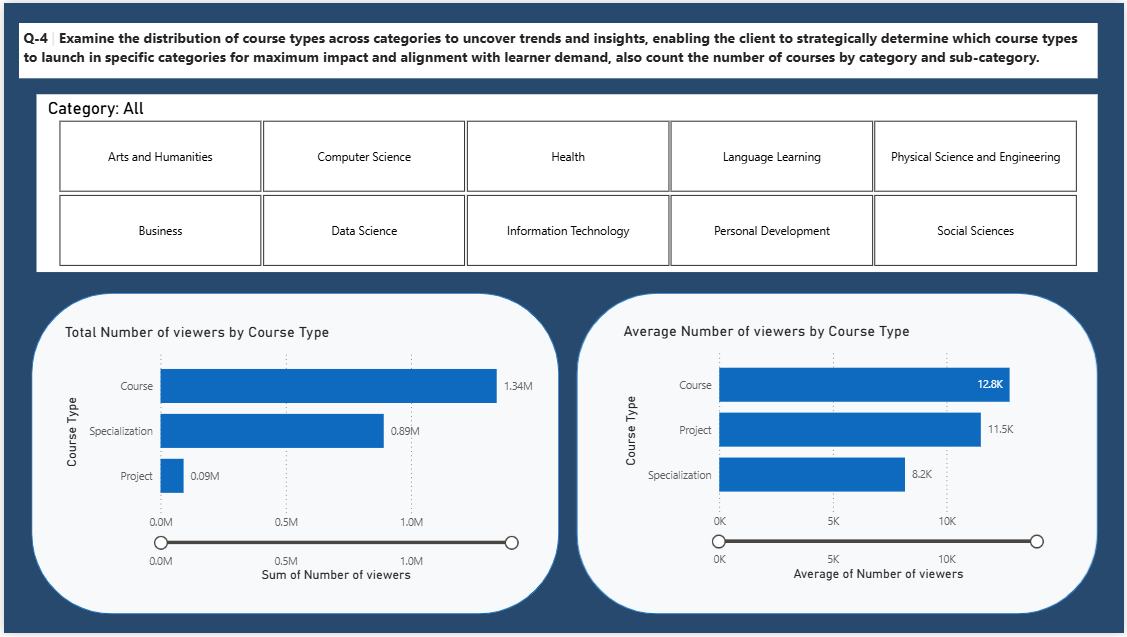

Layout of this report page (visuals, bound fields, positions):
{"tool":"powerbi","page":{"name":"Q-4","canvas":[1280,720],"ordinal":4},"visuals":[{"type":"slicer","fields":{"Values":["Online_Course.Category"]},"box":[37.1,104.3,1212.9,202.9],"z":0},{"type":"shape","box":[31.4,331.4,602.9,367.1],"z":0,"group":"g1"},{"type":"shape","box":[654.3,331.4,595.7,367.1],"z":0,"group":"g2"},{"type":"group","id":"g1","title":"Group 1","box":[31.4,331.4,602.9,367.1],"z":1000},{"type":"barChart","title":"Average Number of viewers by Course Type","fields":{"Y":["Avg(Online_Course.Number of viewers)"],"Category":["Online_Course.Course Type"]},"box":[702.9,364.3,498.6,300],"z":1000,"group":"g2"},{"type":"barChart","title":"Total Number of viewers by Course Type","fields":{"Y":["Sum(Online_Course.Number of viewers)"],"Category":["Online_Course.Course Type"]},"box":[63.9,365.7,559,300],"z":1000,"group":"g1"},{"type":"group","id":"g2","title":"Group 2","box":[654.3,331.4,595.7,367.1],"z":2000},{"type":"textbox","box":[17.1,22.9,1232.9,62.9],"z":3000}]}

Visuals, with their boxes in screenshot pixels (x1, y1, x2, y2), scaled from the page's 1280x720 canvas onto the 1127x637 screenshot:
slicer - Online_Course.Category: (x1=33, y1=92, x2=1101, y2=272)
shape: (x1=28, y1=293, x2=558, y2=618)
shape: (x1=576, y1=293, x2=1101, y2=618)
"Group 1" group: (x1=28, y1=293, x2=558, y2=618)
"Average Number of viewers by Course Type" barChart: (x1=619, y1=322, x2=1058, y2=588)
"Total Number of viewers by Course Type" barChart: (x1=56, y1=324, x2=548, y2=589)
"Group 2" group: (x1=576, y1=293, x2=1101, y2=618)
textbox: (x1=15, y1=20, x2=1101, y2=76)
